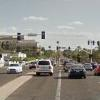Car: (64, 58, 91, 83)
